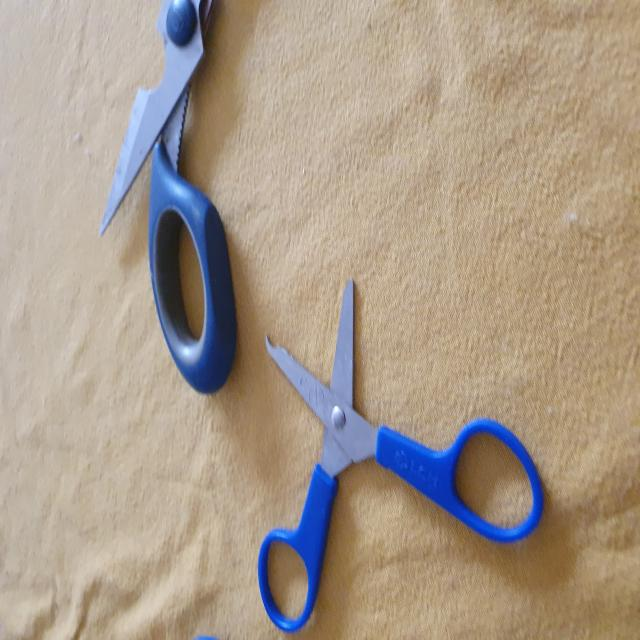scissors: (259, 289, 553, 629), (99, 0, 246, 394)
